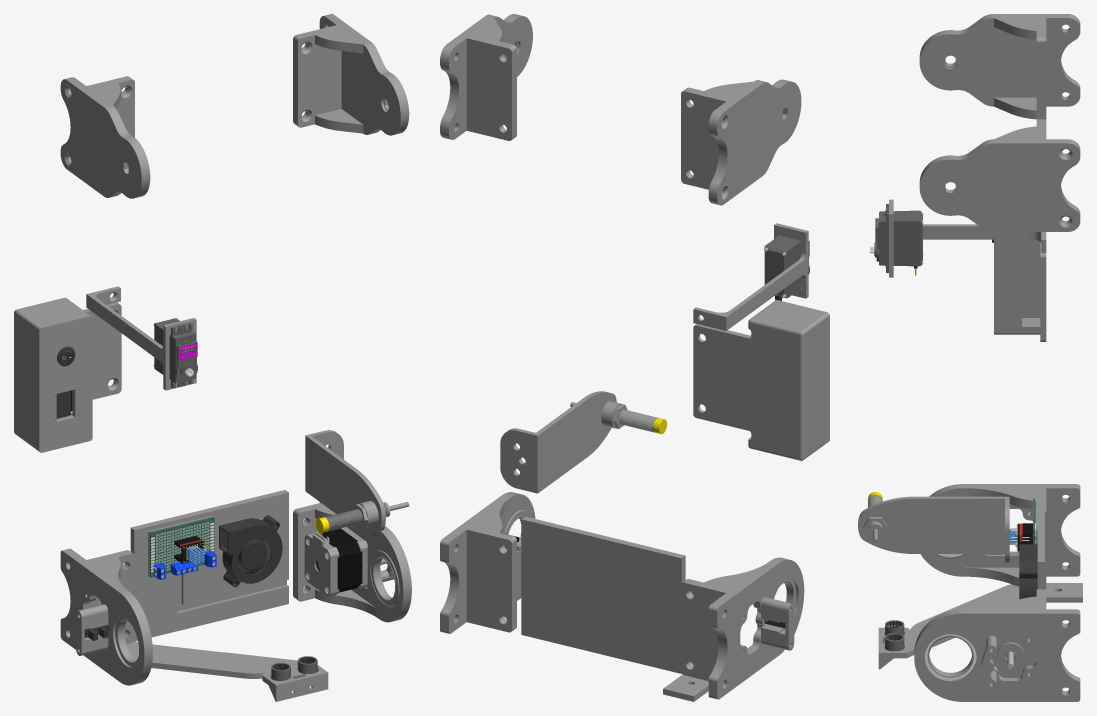
Rendered from Soportes_fusion.glb.
3 renders of one model, left to right at view 1: azimuth 30°, elevation 25°; view 2: azimuth 150°, elevation 25°; view 3: azimuth 270°, elevation 25°, orthographic. The views are drawn at different scales.
Parts seen in each view (by area): view 1: base driver y soplador:1, pieza 2 cinta:1, pieza 2 cinta:2, pieza1 cinta:1, base esp:1, tapa esp:1, pieza1 cinta:2, Open CASCADE STEP translator 7.9 1.5:1, soporte sensor:1, Nema17:1, Soporte_Servo_Cinta_simplificado:1, top:1 (+8 smaller); view 2: base driver y soplador:1, base esp:1, pieza 2 cinta:2, pieza1 cinta:1, pieza 2 cinta:1, pieza1 cinta:2, Open CASCADE STEP translator 7.9 1.5:1, Soporte_Servo_Cinta_simplificado:1, servo mg996R:1, Soporte encoder led:1, soporte sensor:1, SOLID (3):1; view 3: pieza 2 cinta:1, pieza 2 cinta:2, pieza1 cinta:2, Open CASCADE STEP translator 7.9 1.5:1, pieza1 cinta:1, base esp:1, soporte sensor:1, servo mg996R:1, Soporte_Servo_Cinta_simplificado:1, Nema17:1, base driver y soplador:1, rodamiento 6807-2RS (35х47х7):2 (+5 smaller).
Part boxes in pixels (box(x1,y1,x2,y2)): base driver y soplador:1: box(130, 490, 288, 641); pieza 2 cinta:1: box(293, 14, 409, 135); pieza 2 cinta:2: box(60, 76, 150, 198); pieza1 cinta:1: box(60, 548, 152, 685); base esp:1: box(14, 297, 121, 450); tapa esp:1: box(37, 315, 92, 452); pieza1 cinta:2: box(293, 502, 411, 622); Open CASCADE STEP translator 7.9 1.5:1: box(305, 430, 385, 532); soporte sensor:1: box(126, 641, 328, 701); Nema17:1: box(304, 527, 367, 596); Soporte_Servo_Cinta_simplificado:1: box(86, 286, 196, 390); top:1: box(223, 518, 282, 587); base driver y soplador:1: box(521, 516, 685, 673); base esp:1: box(693, 301, 827, 460); pieza 2 cinta:2: box(681, 79, 801, 205); pieza1 cinta:1: box(681, 557, 804, 699); pieza 2 cinta:1: box(440, 14, 532, 140); pieza1 cinta:2: box(440, 492, 535, 633); Open CASCADE STEP translator 7.9 1.5:1: box(500, 391, 621, 493); Soporte_Servo_Cinta_simplificado:1: box(693, 223, 808, 330); servo mg996R:1: box(764, 235, 809, 300); Soporte encoder led:1: box(761, 597, 794, 650); soporte sensor:1: box(663, 662, 708, 701); SOLID (3):1: box(618, 409, 666, 434); pieza 2 cinta:1: box(919, 119, 1080, 231); pieza 2 cinta:2: box(919, 14, 1080, 119); pieza1 cinta:2: box(914, 589, 1080, 701); Open CASCADE STEP translator 7.9 1.5:1: box(858, 496, 1009, 563); pieza1 cinta:1: box(920, 484, 1080, 589); base esp:1: box(997, 239, 1046, 341); soporte sensor:1: box(878, 583, 1082, 669); servo mg996R:1: box(870, 204, 923, 275); Soporte_Servo_Cinta_simplificado:1: box(889, 199, 1046, 277); Nema17:1: box(993, 634, 1036, 677); base driver y soplador:1: box(1036, 487, 1044, 589); rodamiento 6807-2RS (35х47х7):2: box(924, 634, 976, 680).
Bounding box in the file's own units: 0.3317 × 0.5199 × 0.1843.
